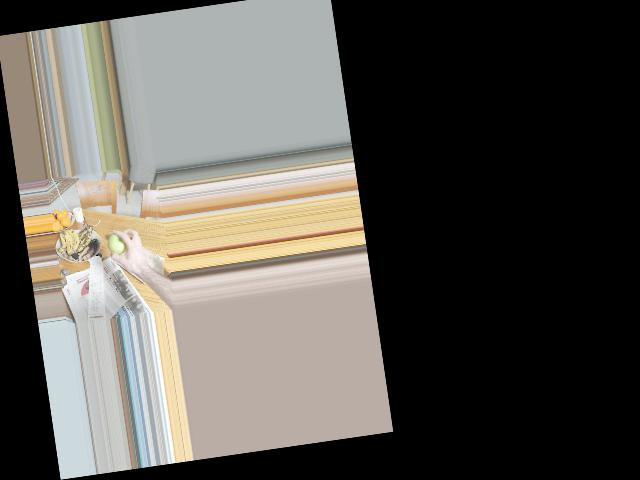apple: (106, 227, 133, 260)
